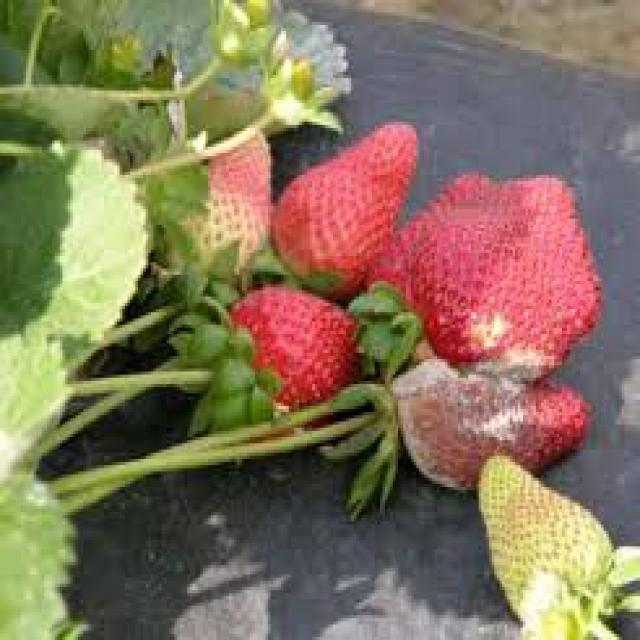Fruta sana: (454, 451, 608, 630), (190, 288, 358, 420), (278, 111, 403, 269), (179, 126, 273, 286)
Moho gris: (382, 168, 597, 376), (388, 362, 588, 490)
